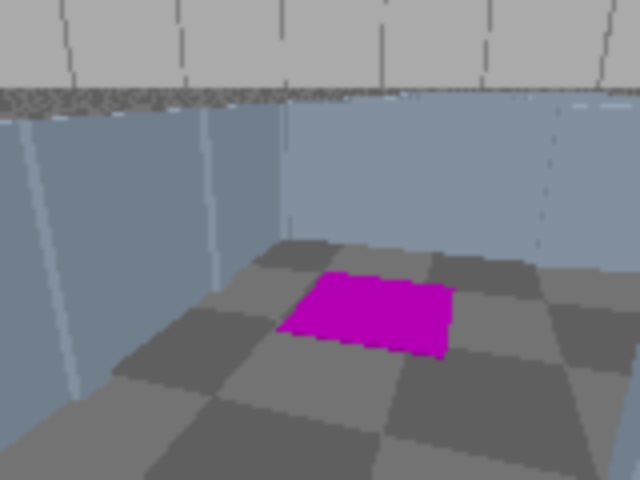goal_zone: (278, 272, 455, 360)
